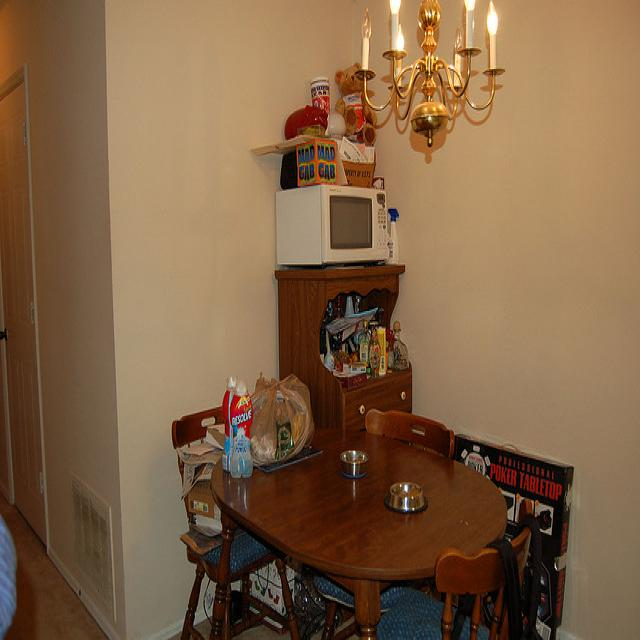chair: (314, 408, 456, 639), (435, 528, 530, 640), (173, 408, 214, 451)
dining table: (205, 422, 507, 632)
